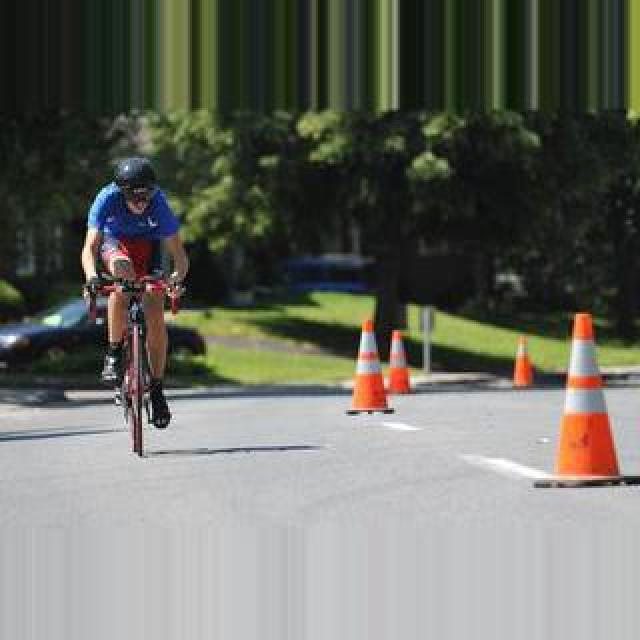MC-Bike: (80, 156, 190, 414)
Person: (95, 273, 175, 455)
